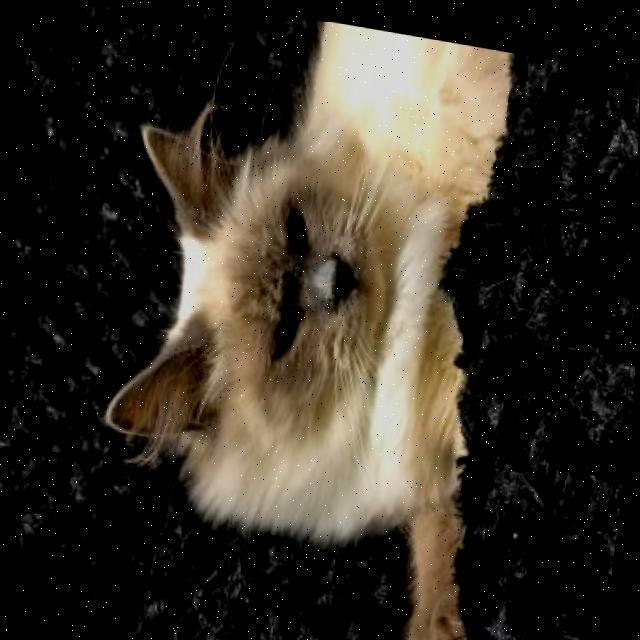Birman: (76, 4, 541, 640)
